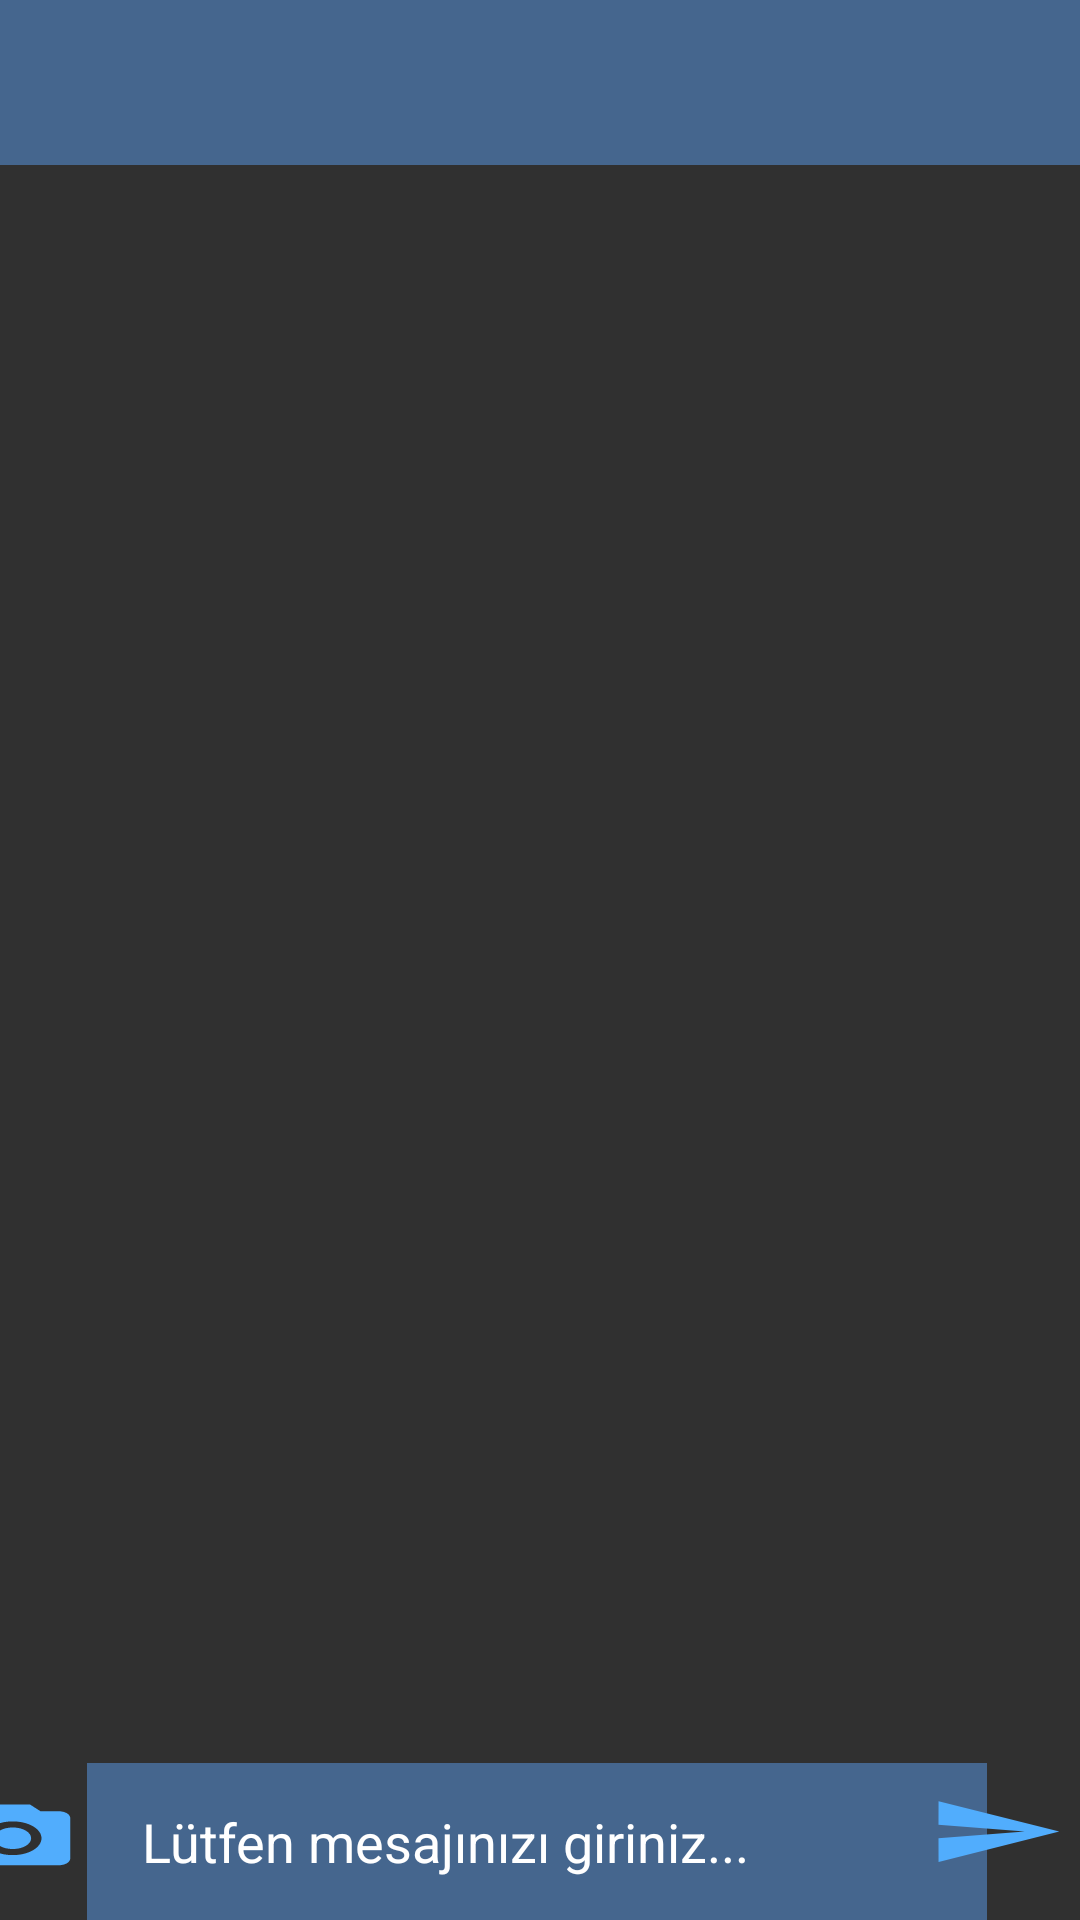

Named icons in this screenshot (1080w x 1920h) and their centers, (x=x, y=y):
message send: (x=996, y=1831)
